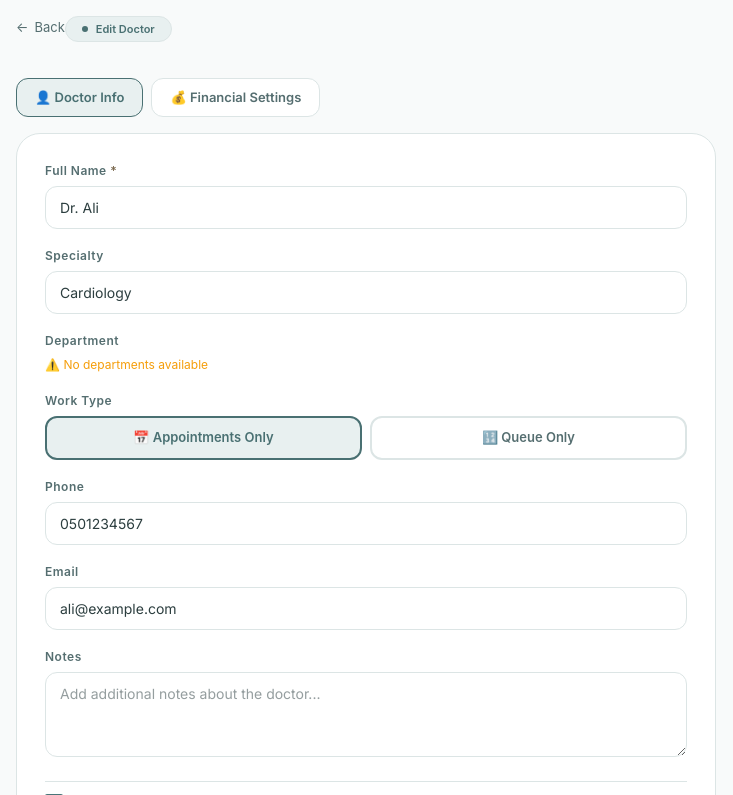
EditDoctor › loads and pre-fills the general financial settings on the Financial tab
This screenshot has width=733, height=795.
Check: the field showing "Dr. Ali" is shown, box [45,186,687,229]
Click the button "💰 Financial Settings". click: (236, 97)
box: [151,78,320,117]
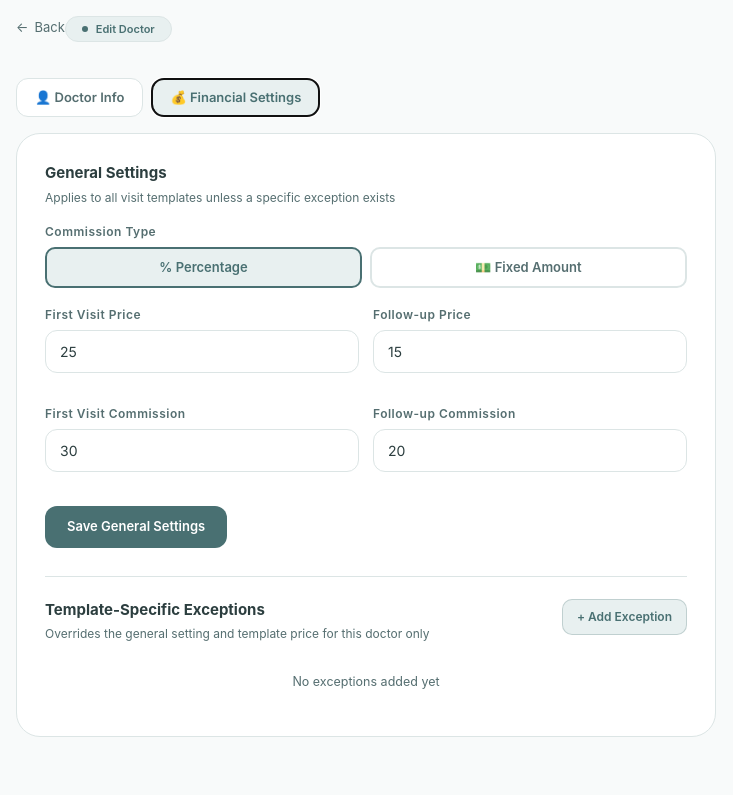
Check: the number field showing "25" is shown, box [45,330,359,373]
Check: the number field showing "15" is shown, box [373,330,687,373]
